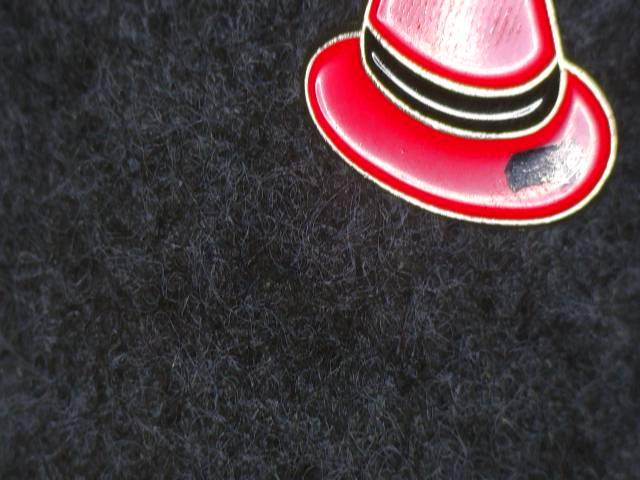Red-Hat: (296, 0, 635, 262)
Scratch: (485, 126, 602, 205)
